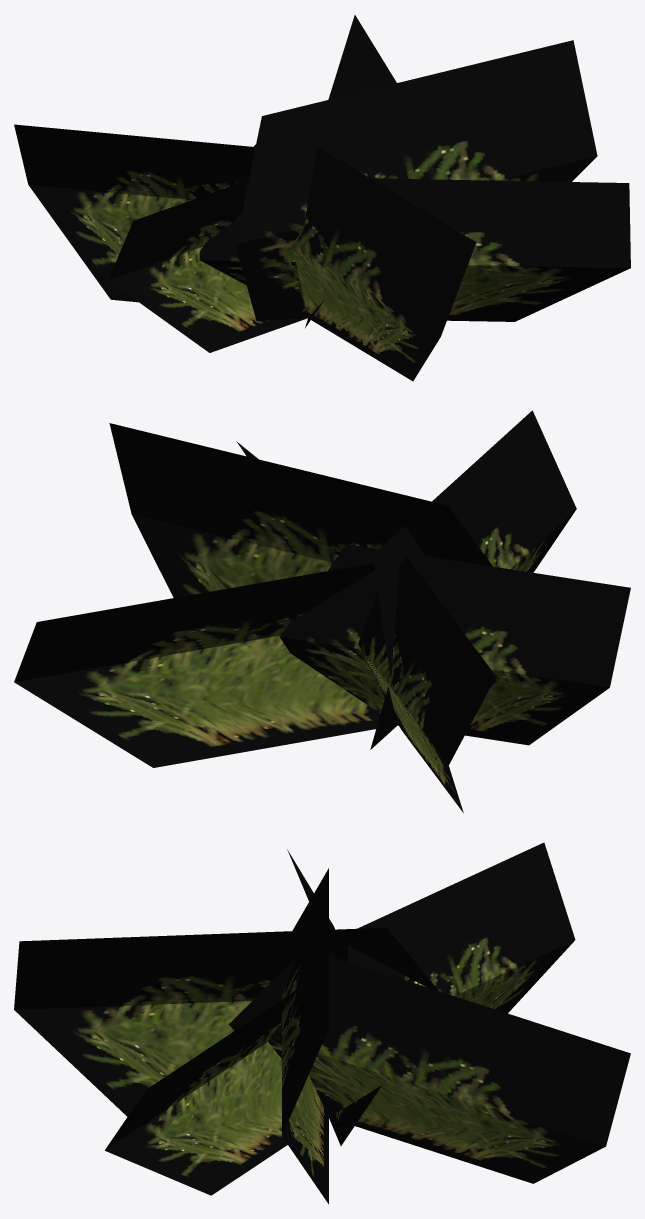
File: Grass_01_Short_Olive.fbx
3 views of the same model, one above another, from view 1: azimuth 30°, elevation 25°; view 2: azimuth 150°, elevation 25°; view 3: azimuth 270°, elevation 25° (orthographic). The views are drawn at different scales.
Parts seen in each view (by area): view 1: Grass_01_Short_Olive.001; view 2: Grass_01_Short_Olive.001; view 3: Grass_01_Short_Olive.001.
Boxes of the visible parts, x1=… form: Grass_01_Short_Olive.001: x1=14, y1=15, x2=630, y2=381; Grass_01_Short_Olive.001: x1=14, y1=410, x2=630, y2=813; Grass_01_Short_Olive.001: x1=14, y1=842, x2=630, y2=1204.
Size of the model in its own units: 72.57 by 31.83 by 78.81.
